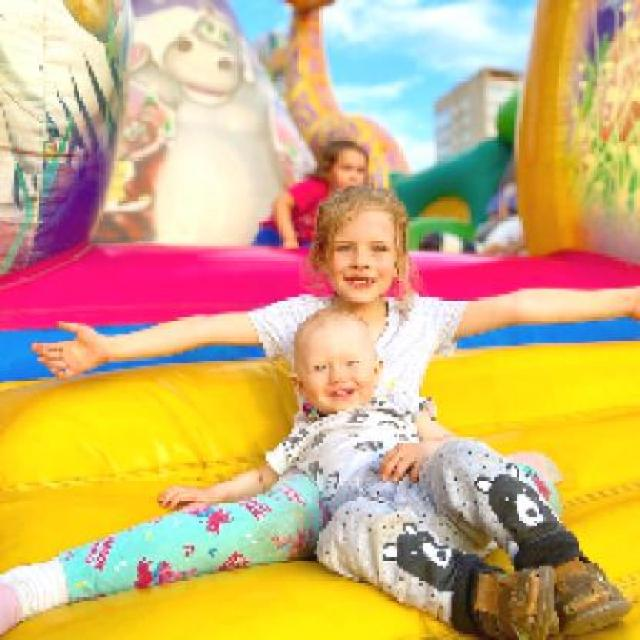child: (157, 305, 637, 638), (28, 184, 640, 395)
